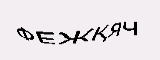Е: (35, 30, 55, 46)
Ж: (58, 28, 92, 45)
Ф: (15, 26, 34, 42)
Ч: (121, 20, 140, 36)
Я: (106, 22, 122, 38)
Қ: (90, 24, 110, 43)
